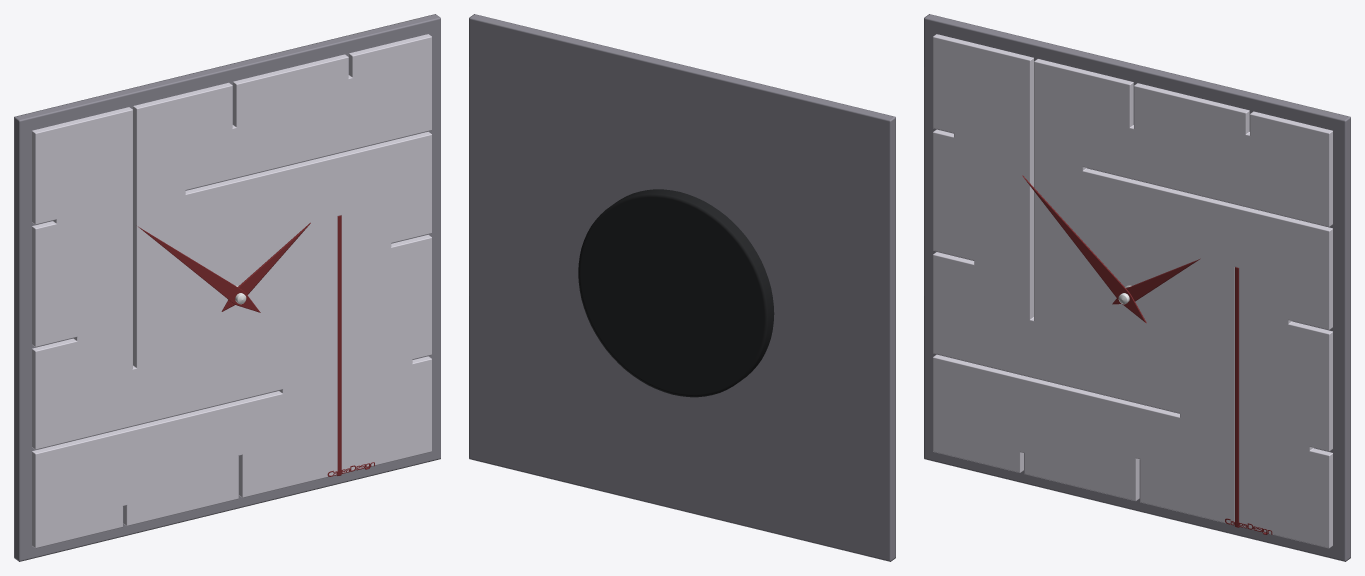
3 views of the same model, side by side, from view 1: azimuth 30°, elevation 25°; view 2: azimuth 150°, elevation 25°; view 3: azimuth 330°, elevation 25° (orthographic).
Parts seen in each view (by area): view 1: clock57755; view 2: clock57755; view 3: clock57755.
Part boxes in pixels (x1,y1,x2,y2): clock57755: (14, 14, 440, 561); clock57755: (469, 14, 895, 561); clock57755: (924, 14, 1350, 561).
Size of the model in its own units: 0.33 by 0.33 by 0.034.
Materials: 1 (1 with a texture image).
